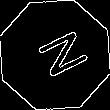N_SW: (24, 26, 86, 84)
